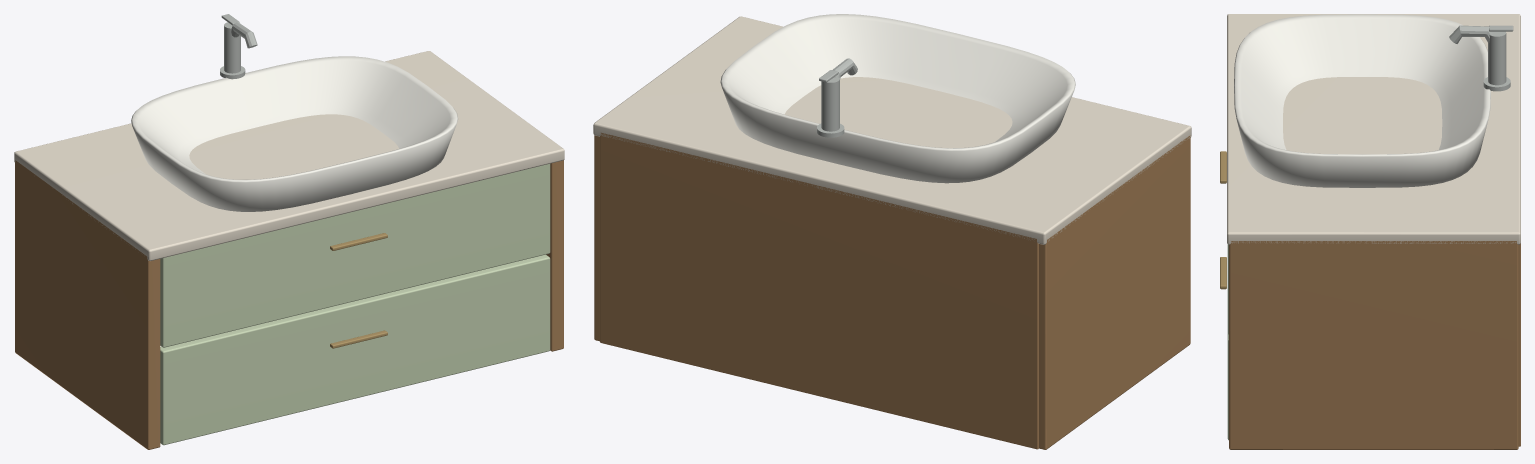
The model's file is floating-bath-vanity.glb.
3 renders of one model, left to right at view 1: azimuth 30°, elevation 25°; view 2: azimuth 150°, elevation 25°; view 3: azimuth 270°, elevation 25°, orthographic. The views are drawn at different scales.
Parts seen in each view (by area): view 1: floating-bath-vanity authored assembly; view 2: floating-bath-vanity authored assembly; view 3: floating-bath-vanity authored assembly.
Part boxes in pixels (x1,y1,x2,y2): floating-bath-vanity authored assembly: [14, 14, 564, 449]; floating-bath-vanity authored assembly: [593, 14, 1191, 449]; floating-bath-vanity authored assembly: [1220, 14, 1520, 449].
Size of the model in its own units: 0.9 by 0.6 by 0.52.
